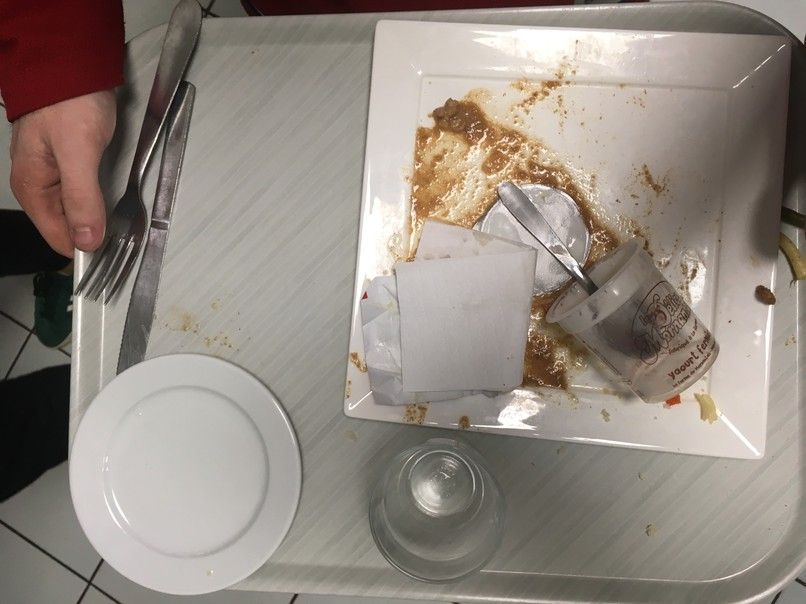cup: (360, 430, 529, 604)
cutlery: (70, 3, 225, 377)
trash: (568, 250, 724, 401), (403, 218, 533, 395), (484, 180, 591, 292), (355, 276, 415, 404)
